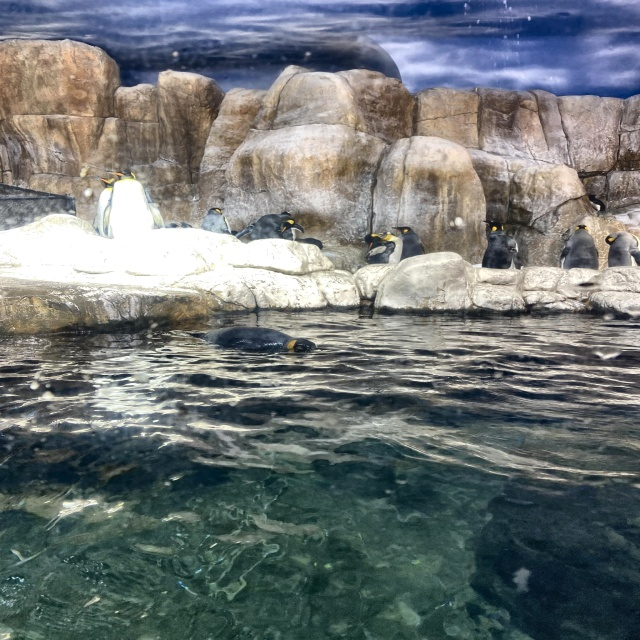penguin: (103, 169, 167, 239), (187, 325, 320, 358), (481, 220, 521, 270), (560, 224, 599, 269), (97, 177, 124, 235), (250, 212, 291, 242), (605, 232, 639, 267), (392, 226, 426, 258), (202, 208, 231, 237), (381, 231, 403, 266), (365, 232, 386, 263), (277, 218, 303, 243), (234, 221, 262, 244)
